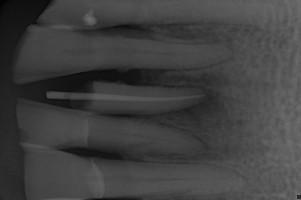Furcation Involvement: (146, 135, 213, 162), (174, 84, 226, 118)
